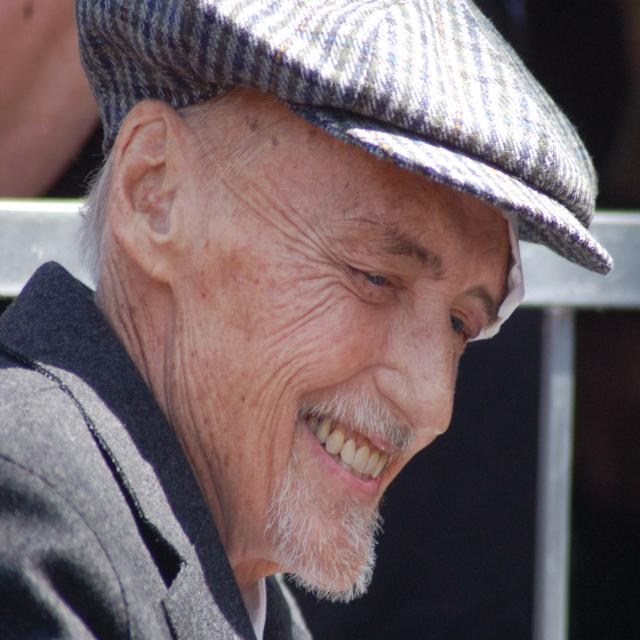no-earmuff: (85, 78, 216, 309)
